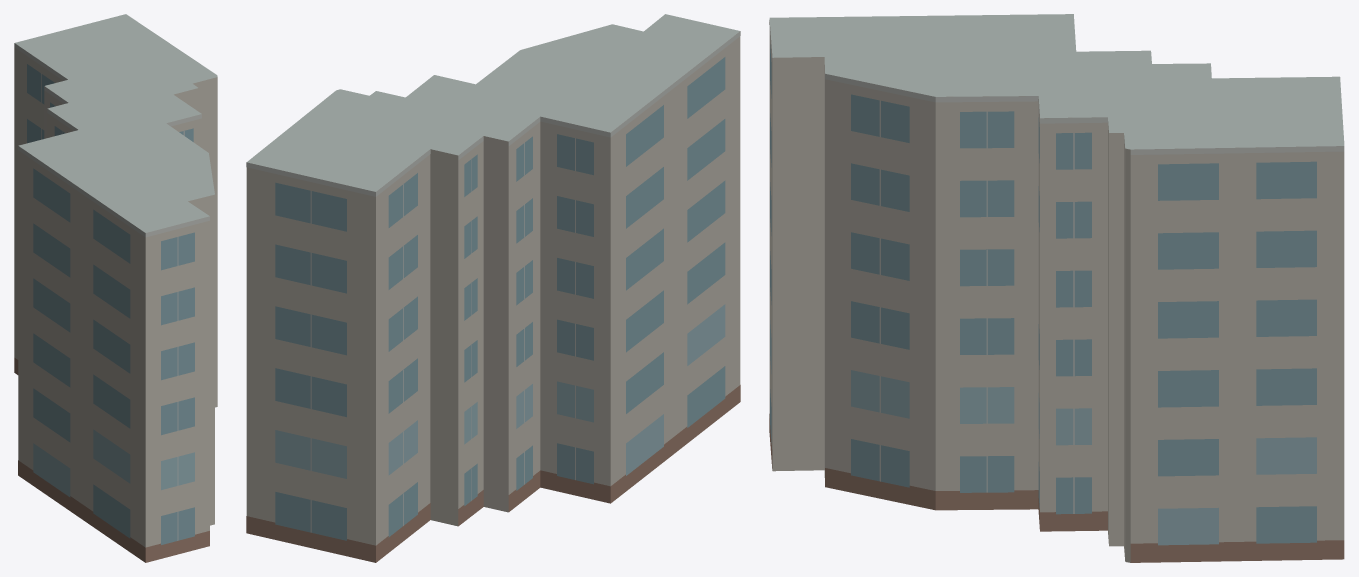
The model's file is survey-upis-32699946.glb.
3 renders of one model, left to right at view 1: azimuth 30°, elevation 25°; view 2: azimuth 150°, elevation 25°; view 3: azimuth 270°, elevation 25°, orthographic. The views are drawn at different scales.
Parts seen in each view (by area): view 1: survey-upis-32699946.tmp; view 2: survey-upis-32699946.tmp; view 3: survey-upis-32699946.tmp.
Boxes of the visible parts, x1=… form: survey-upis-32699946.tmp: x1=14, y1=14, x2=217, y2=562; survey-upis-32699946.tmp: x1=246, y1=14, x2=740, y2=562; survey-upis-32699946.tmp: x1=769, y1=14, x2=1344, y2=562.
Bounding box in the file's own units: 12.88 × 18.3 × 23.08.
